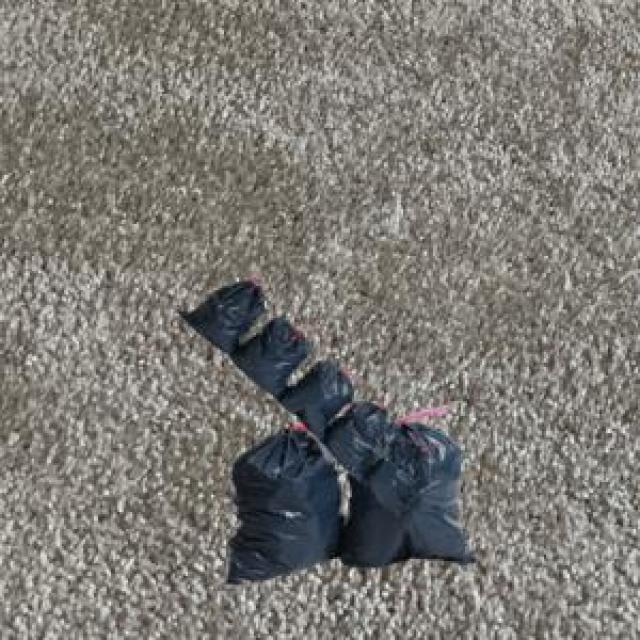miscellaneous trash: (173, 277, 427, 512), (222, 401, 472, 580)
